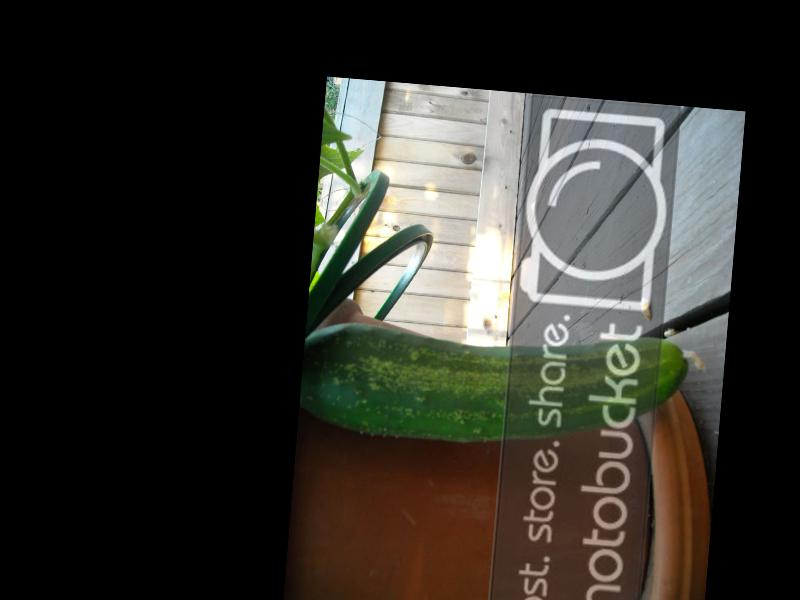Cucumber: (301, 309, 706, 462)
